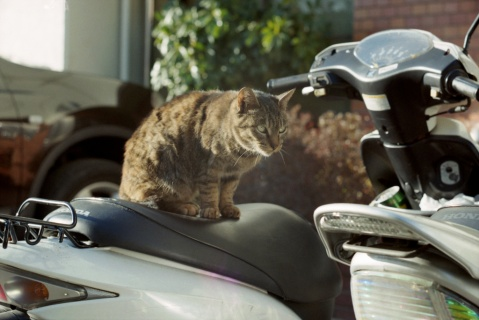Cat: (118, 87, 296, 220)
